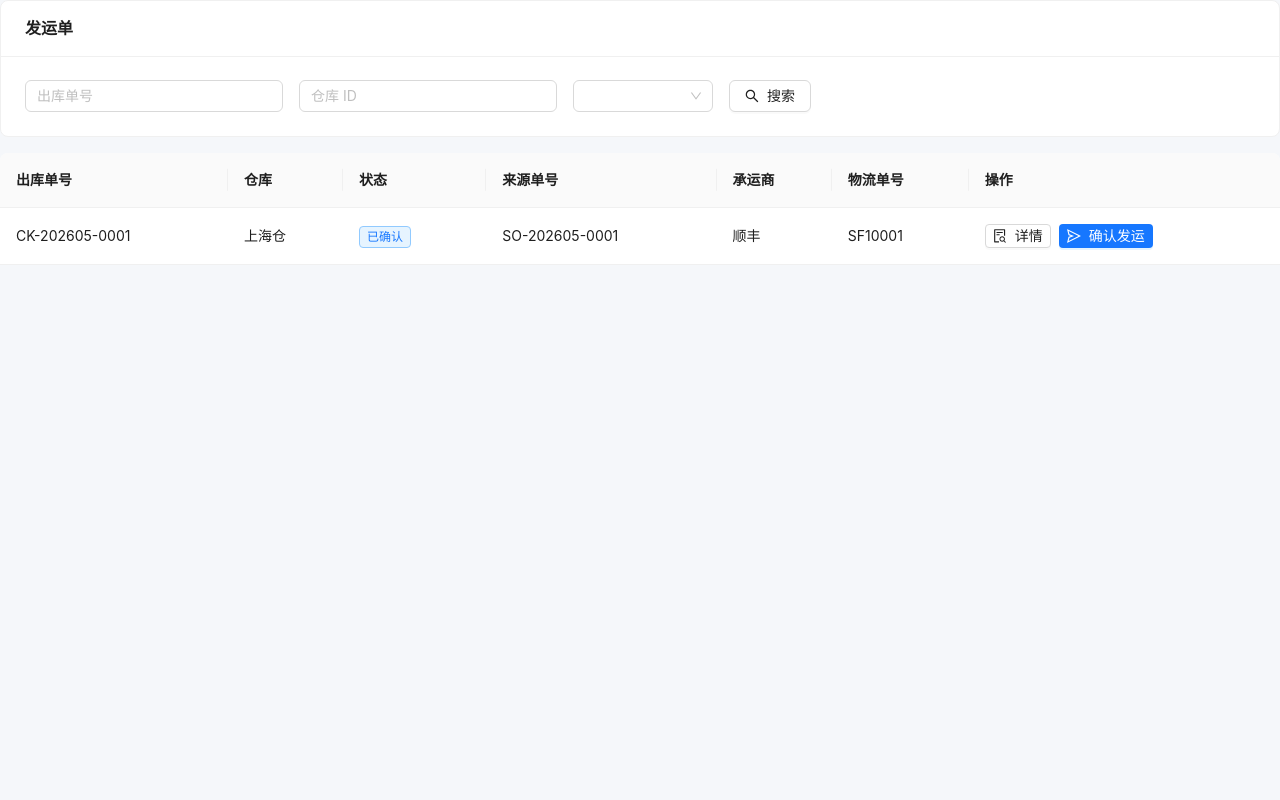
Test: ShipmentPage › loads shipment list and opens detail
Expected: the text "CK-202605-0001" is shown, x1=0 y1=208 x2=228 y2=265
Click the button with aria-label "详情 CK-202605-0001": point(1018, 236) x1=985 y1=224 x2=1051 y2=248
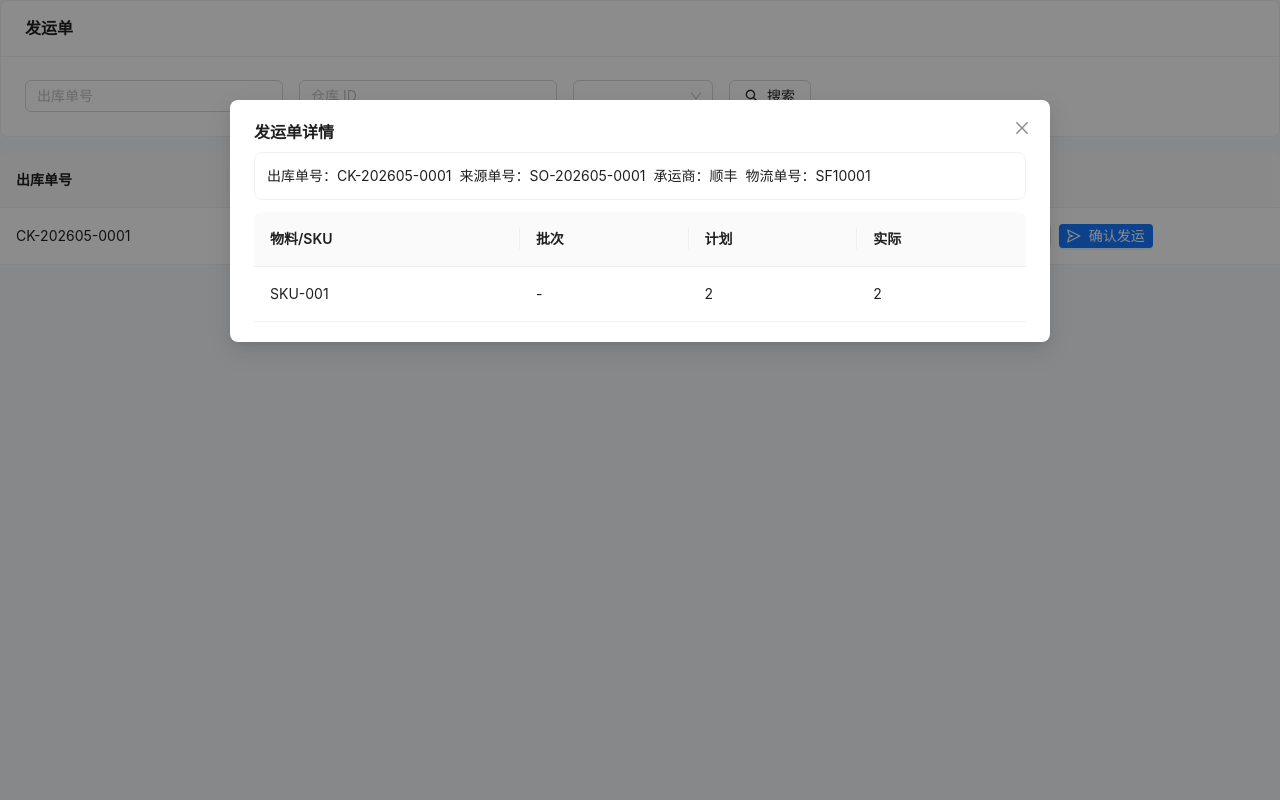
Expected: the text "SKU-001" is shown, x1=254 y1=267 x2=520 y2=322
